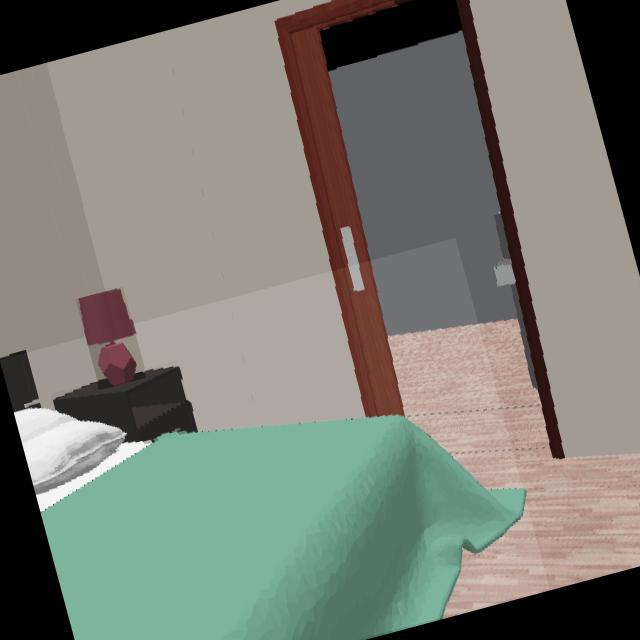bed: (0, 353, 524, 640)
lamp: (80, 289, 138, 385)
nighttable: (54, 368, 195, 443)
